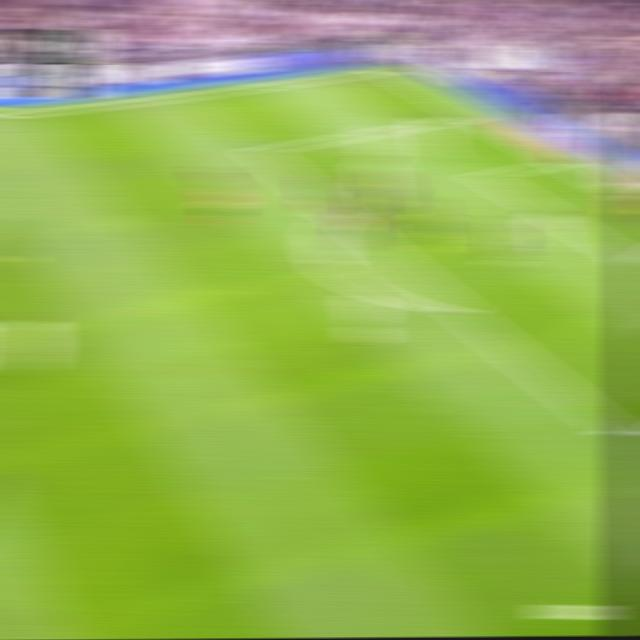bigarea_bottom_inner: (600, 415, 635, 449)
bigarea_top_inner: (247, 139, 276, 162)
bottom_arc_area_intersection: (443, 295, 476, 323)
corner: (371, 63, 401, 75)
smallarea_top_inner: (475, 169, 502, 184)
top_arc_area_intersection: (325, 204, 352, 222)
